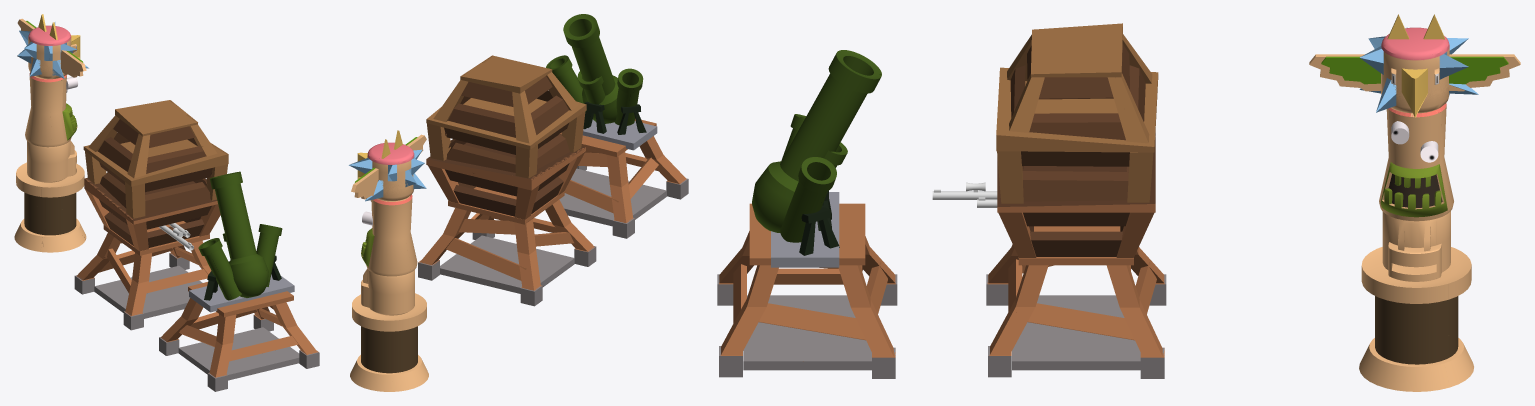
File: Tower.fbx
3 views of the same model, side by side, from view 1: azimuth 30°, elevation 25°; view 2: azimuth 150°, elevation 25°; view 3: azimuth 270°, elevation 25° (orthographic). The views are drawn at different scales.
Parts seen in each view (by area): view 1: GunnerLVL1, MortierTower, TotemLVL1, GunnerLVL2, GunnerLVL3, MortierLVL3Big, MortierLVL3Speed.002, TotemLvl2, TotemLVL3electrical, TotemLVL3Laser, Snipe; view 2: GunnerLVL1, MortierTower, TotemLVL1, GunnerLVL3, GunnerLVL2, MortierLVL3Speed.002, TotemLvl2, TotemLVL3electrical, MortierLVL3Big, TotemLVL3Laser, MortierLVL2; view 3: GunnerLVL1, MortierTower, TotemLVL1, GunnerLVL3, GunnerLVL2, MortierLVL3Big, TotemLvl2, TotemLVL3electrical, MortierLVL3Speed.002, TotemLVL3Laser, Snipe.
Part boxes in pixels (x1=…): GunnerLVL1: x1=74, y1=177, x2=220, y2=330; MortierTower: x1=159, y1=282, x2=319, y2=391; TotemLVL1: x1=14, y1=140, x2=86, y2=252; GunnerLVL2: x1=83, y1=139, x2=228, y2=218; GunnerLVL3: x1=88, y1=100, x2=217, y2=178; MortierLVL3Big: x1=210, y1=171, x2=268, y2=299; MortierLVL3Speed.002: x1=189, y1=224, x2=294, y2=312; TotemLvl2: x1=25, y1=72, x2=77, y2=147; TotemLVL3electrical: x1=17, y1=14, x2=88, y2=79; TotemLVL3Laser: x1=17, y1=18, x2=86, y2=77; Snipe: x1=159, y1=225, x2=193, y2=250; GunnerLVL1: x1=418, y1=142, x2=596, y2=306; MortierTower: x1=559, y1=119, x2=688, y2=238; TotemLVL1: x1=350, y1=268, x2=428, y2=391; GunnerLVL3: x1=433, y1=55, x2=578, y2=143; GunnerLVL2: x1=426, y1=98, x2=586, y2=178; MortierLVL3Speed.002: x1=546, y1=55, x2=657, y2=150; TotemLvl2: x1=361, y1=194, x2=417, y2=276; TotemLVL3electrical: x1=348, y1=130, x2=426, y2=201; MortierLVL3Big: x1=563, y1=14, x2=618, y2=140; TotemLVL3Laser: x1=351, y1=134, x2=426, y2=199; MortierLVL2: x1=577, y1=71, x2=619, y2=141; GunnerLVL1: x1=986, y1=132, x2=1166, y2=378; MortierTower: x1=717, y1=203, x2=897, y2=378; TotemLVL1: x1=1359, y1=211, x2=1473, y2=391; GunnerLVL3: x1=1007, y1=23, x2=1152, y2=143; GunnerLVL2: x1=996, y1=67, x2=1158, y2=203; MortierLVL3Big: x1=752, y1=50, x2=881, y2=238; TotemLvl2: x1=1379, y1=103, x2=1453, y2=221; TotemLVL3electrical: x1=1359, y1=14, x2=1478, y2=117; MortierLVL3Speed.002: x1=771, y1=114, x2=847, y2=267; TotemLVL3Laser: x1=1309, y1=54, x2=1520, y2=107; Snipe: x1=932, y1=182, x2=997, y2=199.
Bounding box in the file's own units: 728 × 1428 × 2961.
12 materials, 12 textured.
